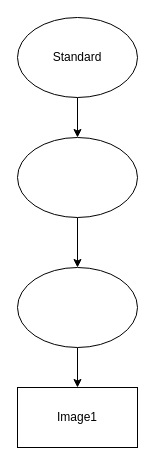
Some shapes in this 155 by 465 pixel diagram are drawn without their labels. The box of each missing label's shape, as (x1, y1, x2, y2) in pixels:
Image: (16, 136, 138, 218)
ImageKernal: (16, 266, 138, 348)
